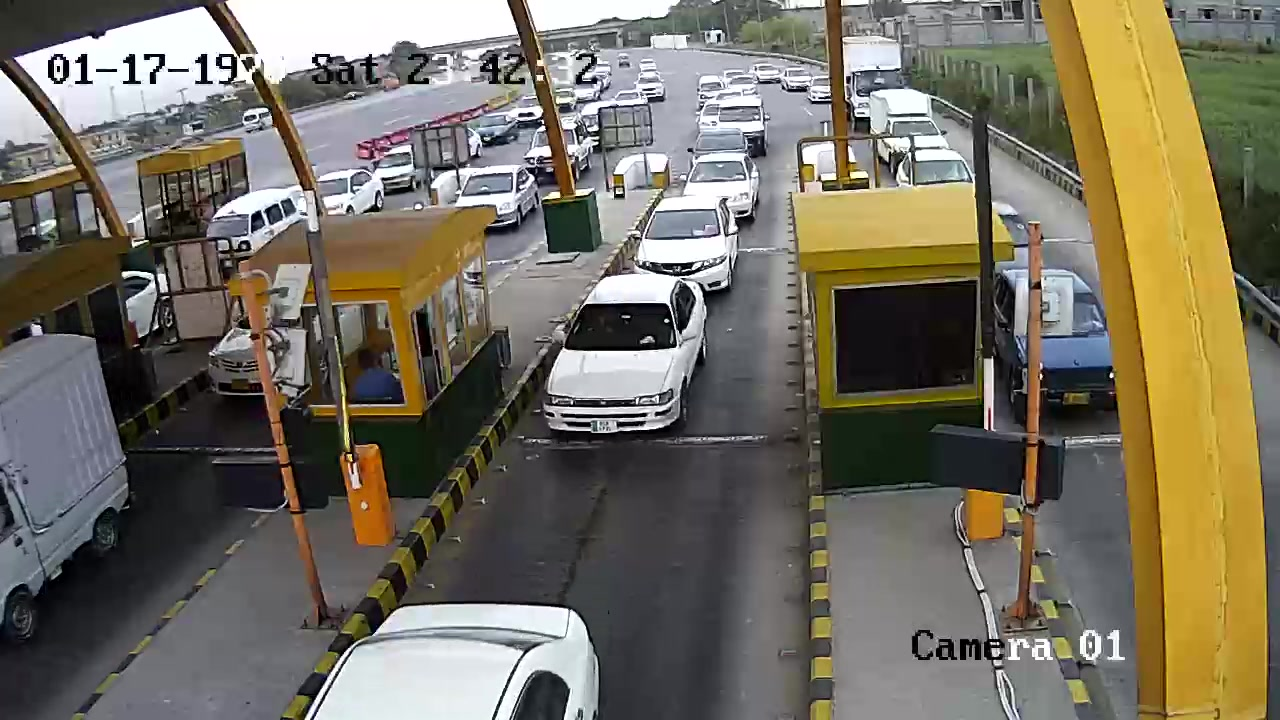F1: (533, 270, 714, 457)
